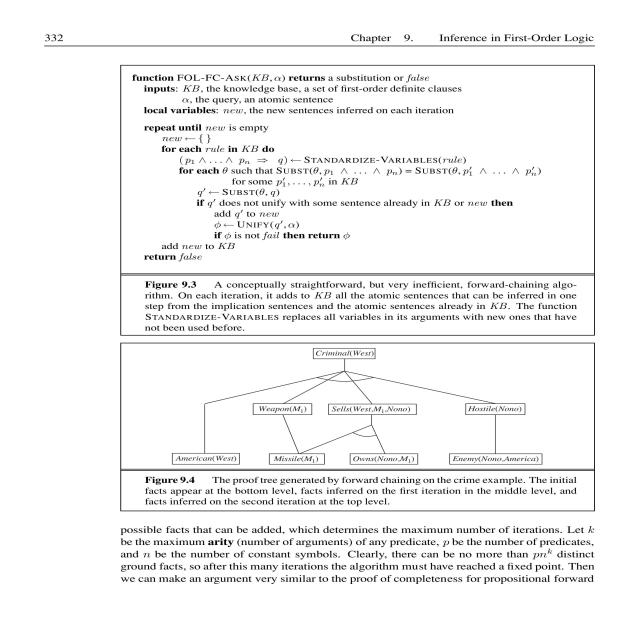diagram: (138, 342, 624, 511)
